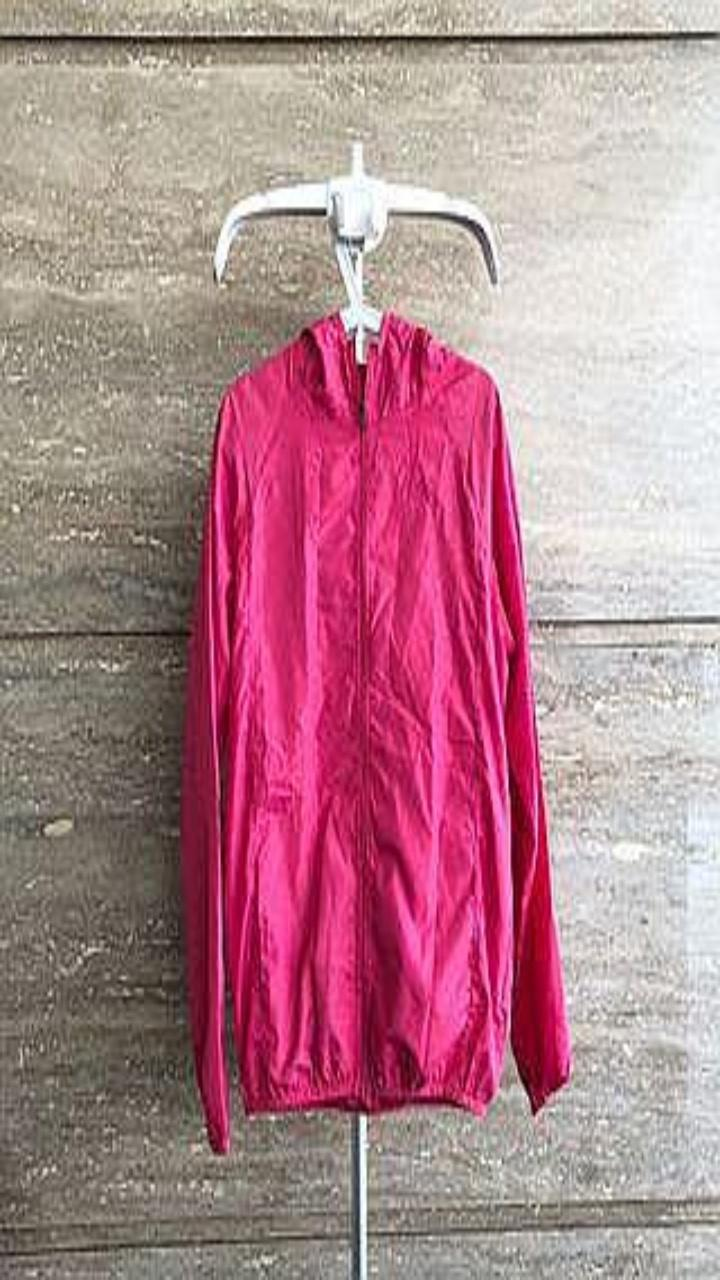Sports_Jacket: (180, 309, 570, 1152)
